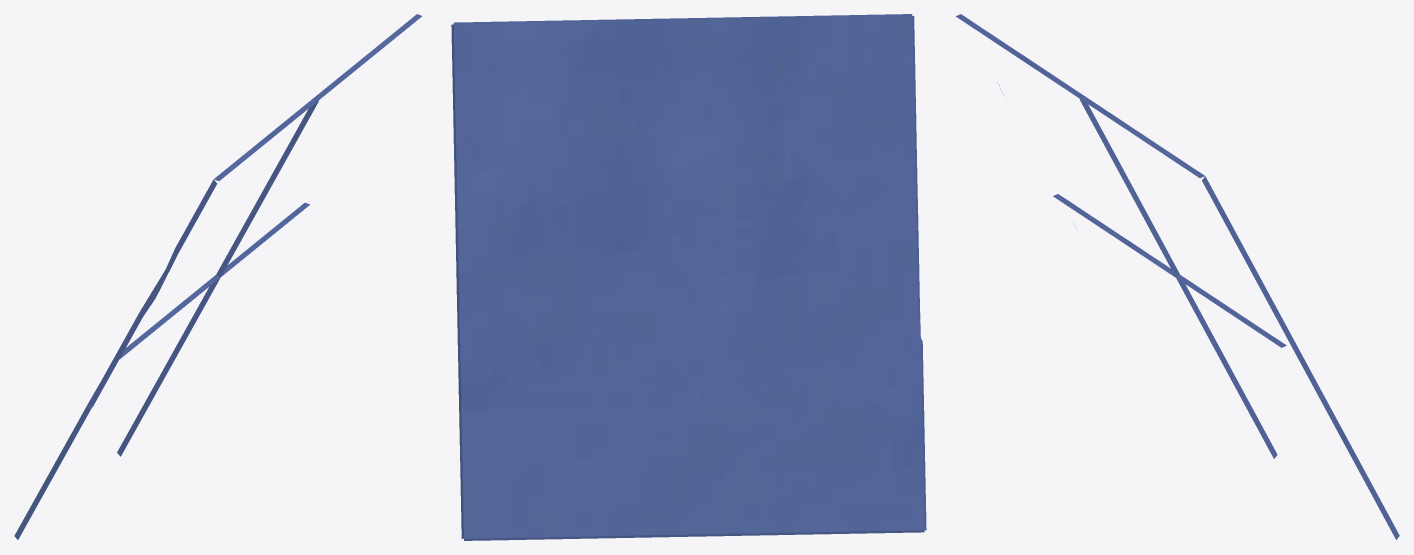
3 renders of one model, left to right at view 1: azimuth 30°, elevation 25°; view 2: azimuth 150°, elevation 25°; view 3: azimuth 270°, elevation 25°, orthographic. The views are drawn at different scales.
Bounding box in the file's own units: 39508 × 35316 × 34188.
1 material, 1 textured.
